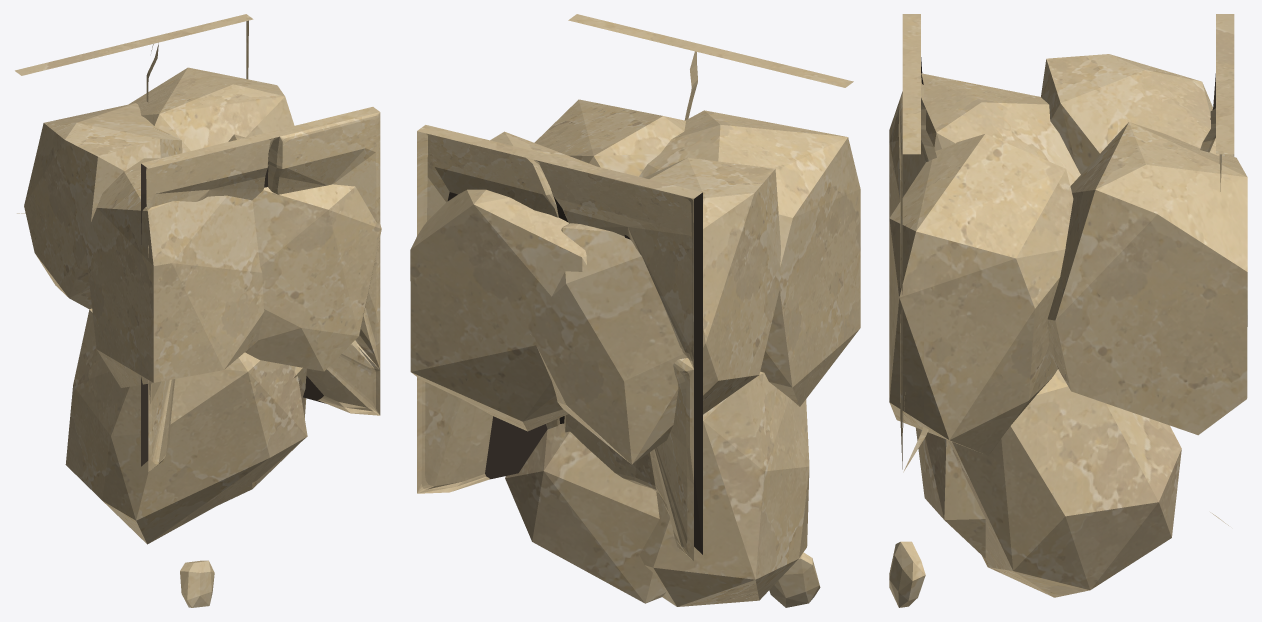
The model's file is ground_bottom_strip_07.glb.
3 views of the same model, side by side, from view 1: azimuth 30°, elevation 25°; view 2: azimuth 150°, elevation 25°; view 3: azimuth 270°, elevation 25° (orthographic). The views are drawn at different scales.
Visible parts, largest first — view 1: GroundBottomStrip07_Body; view 2: GroundBottomStrip07_Body; view 3: GroundBottomStrip07_Body.
Part boxes in pixels (x1,y1,x2,y2): GroundBottomStrip07_Body: (15, 14, 381, 607); GroundBottomStrip07_Body: (410, 14, 860, 607); GroundBottomStrip07_Body: (889, 14, 1247, 607).
Bounding box in the file's own units: 1 × 1.86 × 1.08.
Materials: 9 (8 with a texture image).
